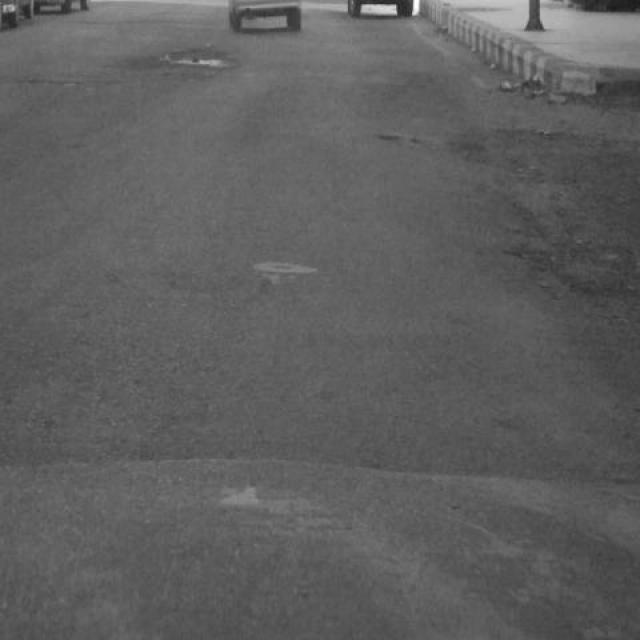Pothole: (507, 227, 640, 298), (158, 34, 244, 83), (367, 114, 429, 158)
Unmarked Bump: (0, 456, 640, 640)
